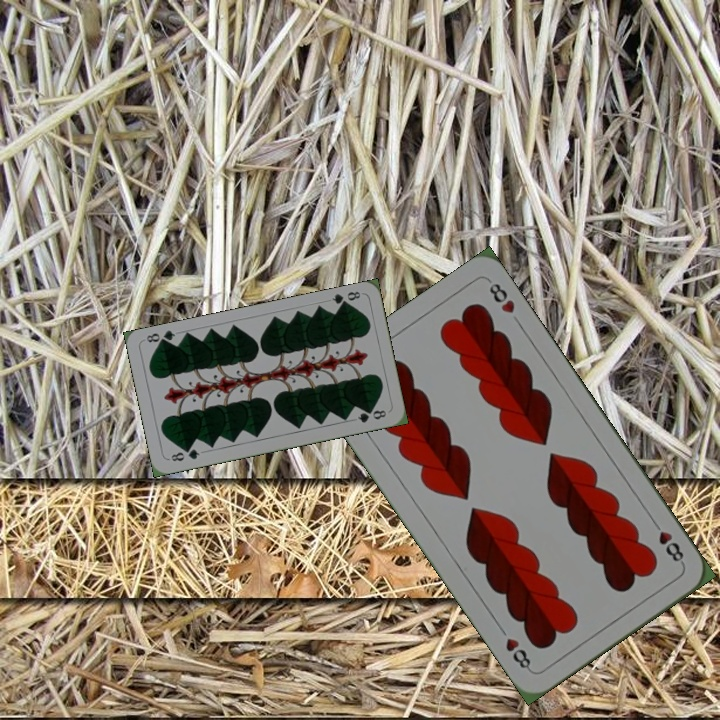G8: (328, 287, 363, 310), (167, 444, 202, 464)
H8: (648, 516, 687, 568)
